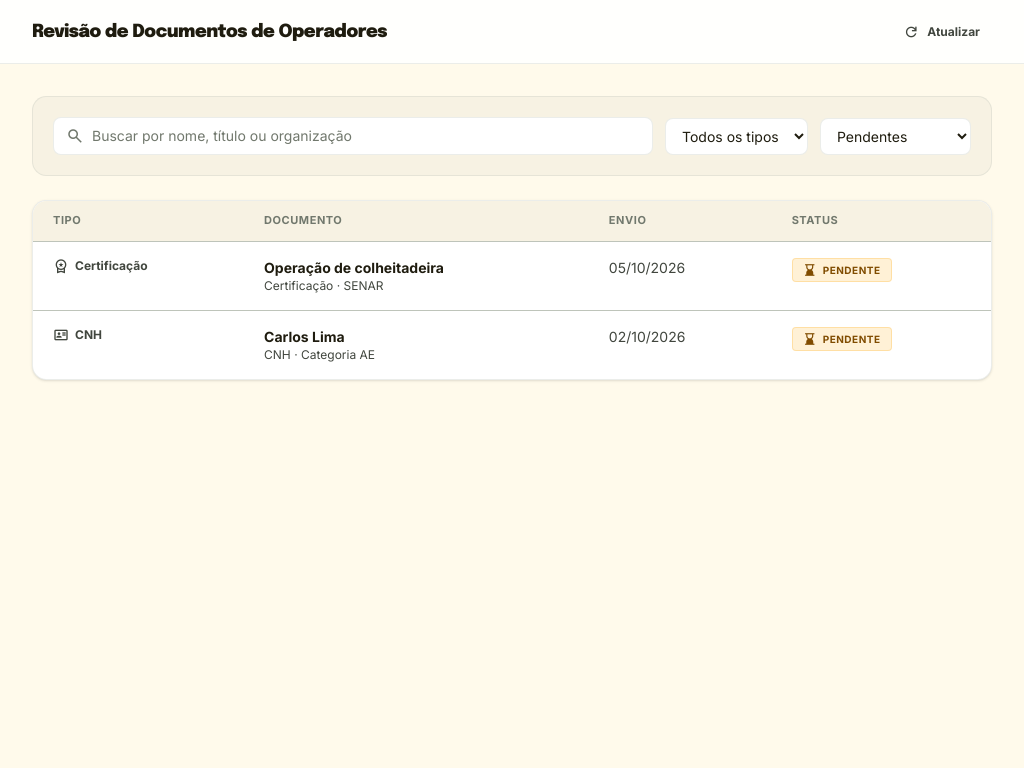
it: reviews a CNH with the driver's data, the attached PDF and an approval note
Expected: the text "Carlos Lima" is shown, [264,328,345,345]
Click the text "Carlos Lima" at (304, 336), box [33,310,991,379]
(page scrolled)
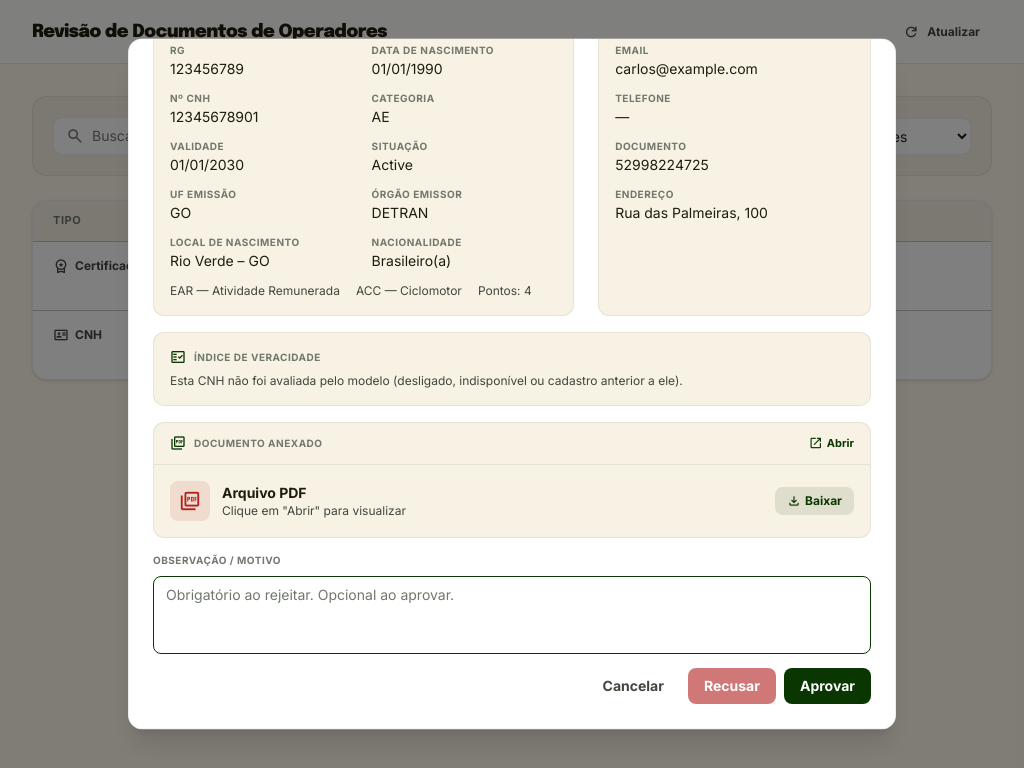
Expected: the text "Rio Verde – GO" is shown, [170,252,270,269]
Expected: the text "EAR — Atividade Remunerada" is shown, [170,283,340,299]
Expected: the text "Pontos: 4" is shown, [478,283,532,299]
Type "Conferido com o DETRAN" into the text box labelled "Observação / Motivo" at (512, 615), box [153,576,871,654]
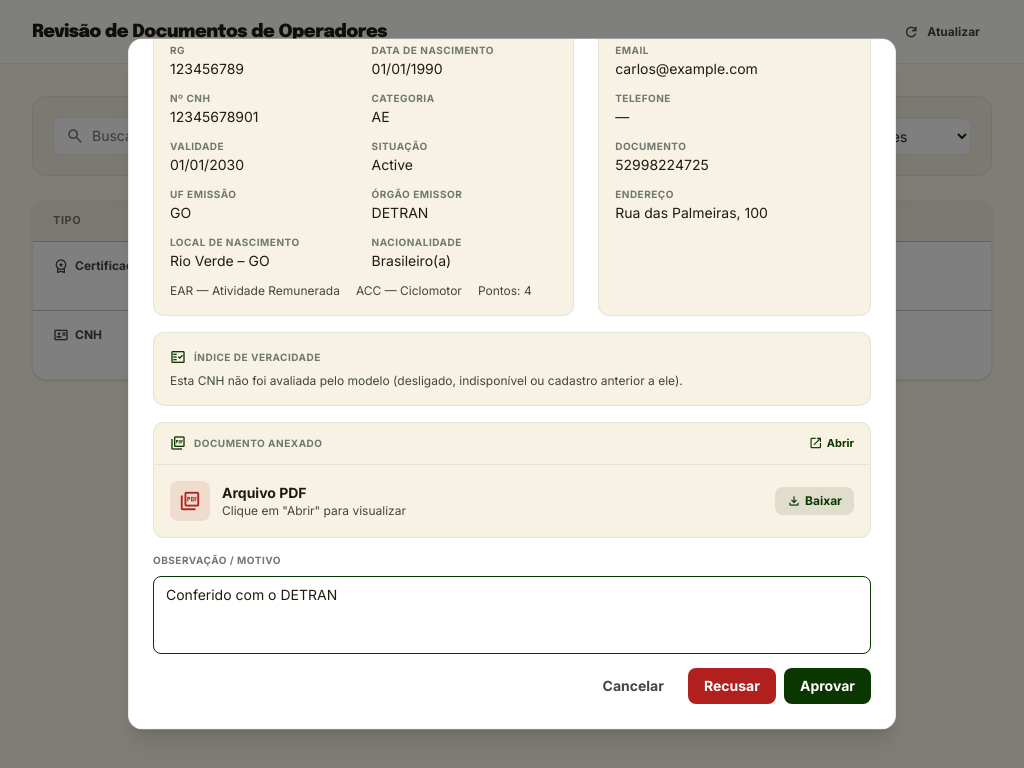
Click the button "Aprovar" at (827, 686), box [784,668,871,704]
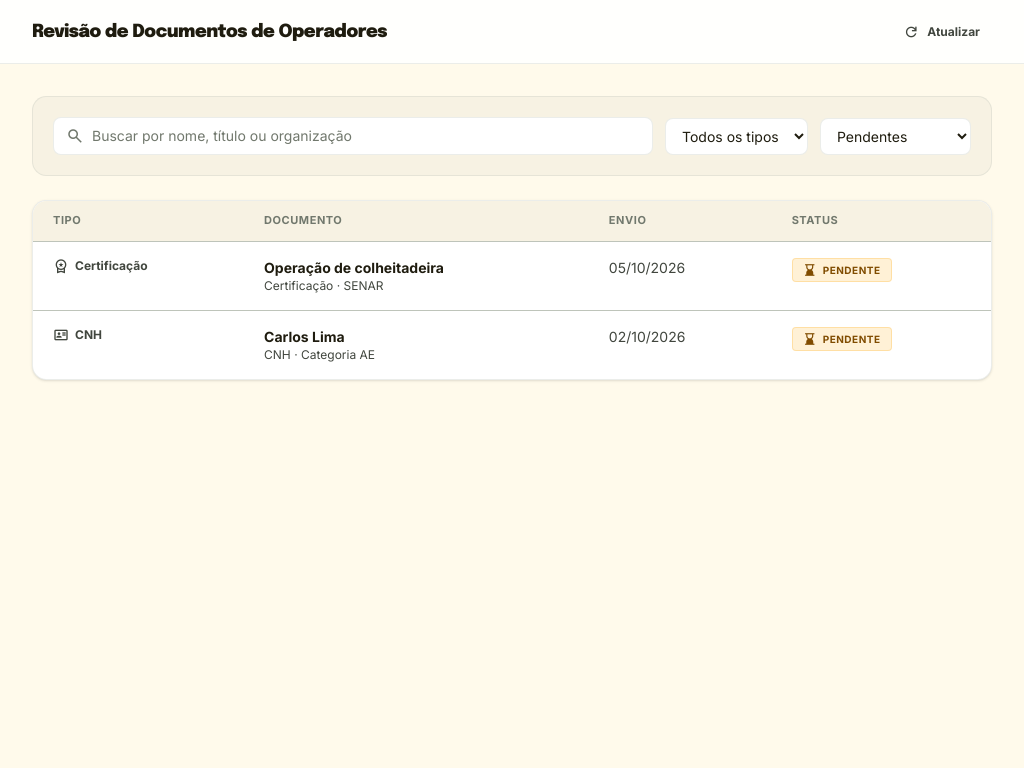
Expected: the dialog is gone
